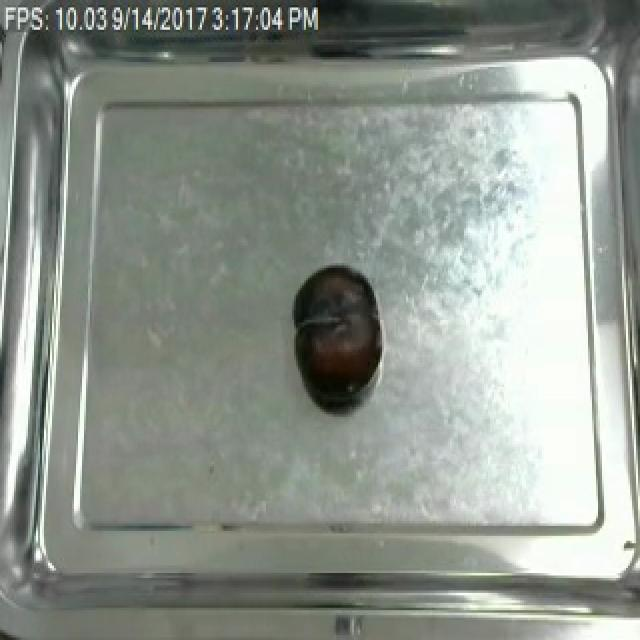Fruit: (288, 263, 384, 404)
